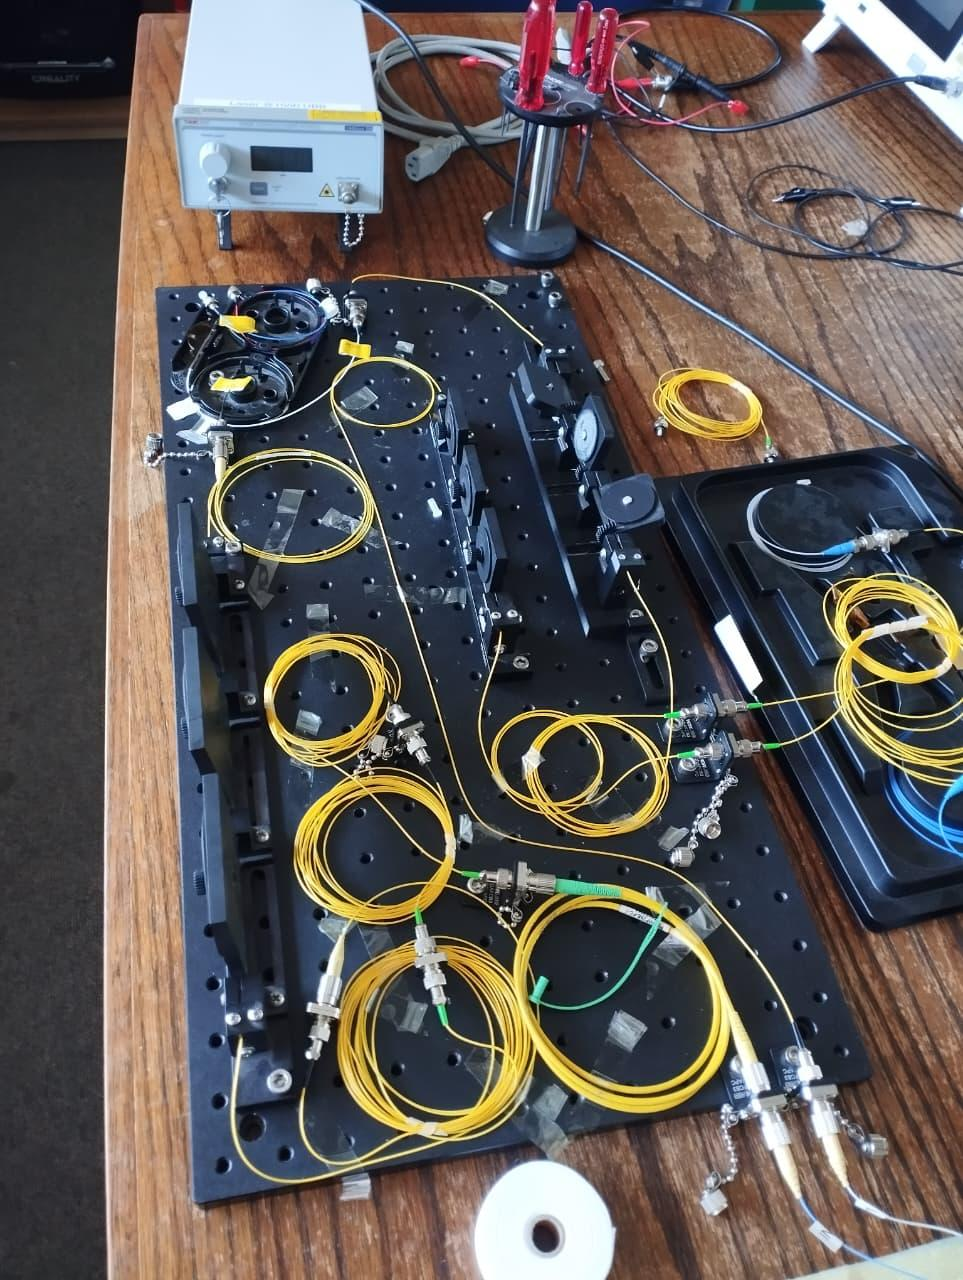fiber_cable: (508, 830, 755, 1120), (295, 890, 533, 1173), (808, 546, 963, 791), (298, 750, 472, 960), (462, 680, 688, 838), (642, 355, 797, 485), (257, 633, 405, 762)
laser: (177, 0, 383, 260)
paddle_polarization_controller: (140, 527, 325, 1087), (508, 333, 673, 640), (422, 375, 548, 668)
